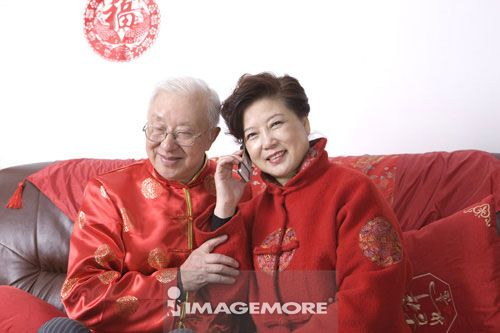talk: (215, 110, 294, 201)
